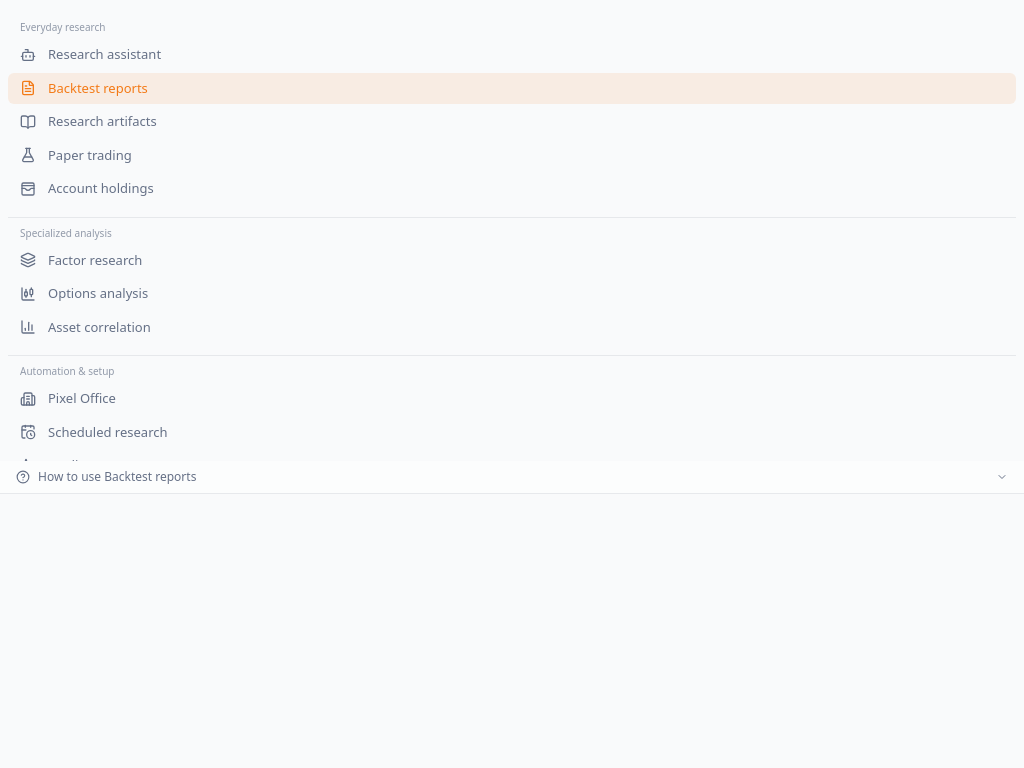
Test: resets page help on navigation and states the scheduler prerequisite
Click the heading "How to use Backtest reports". click: (117, 476)
box: [16,469,1008,485]
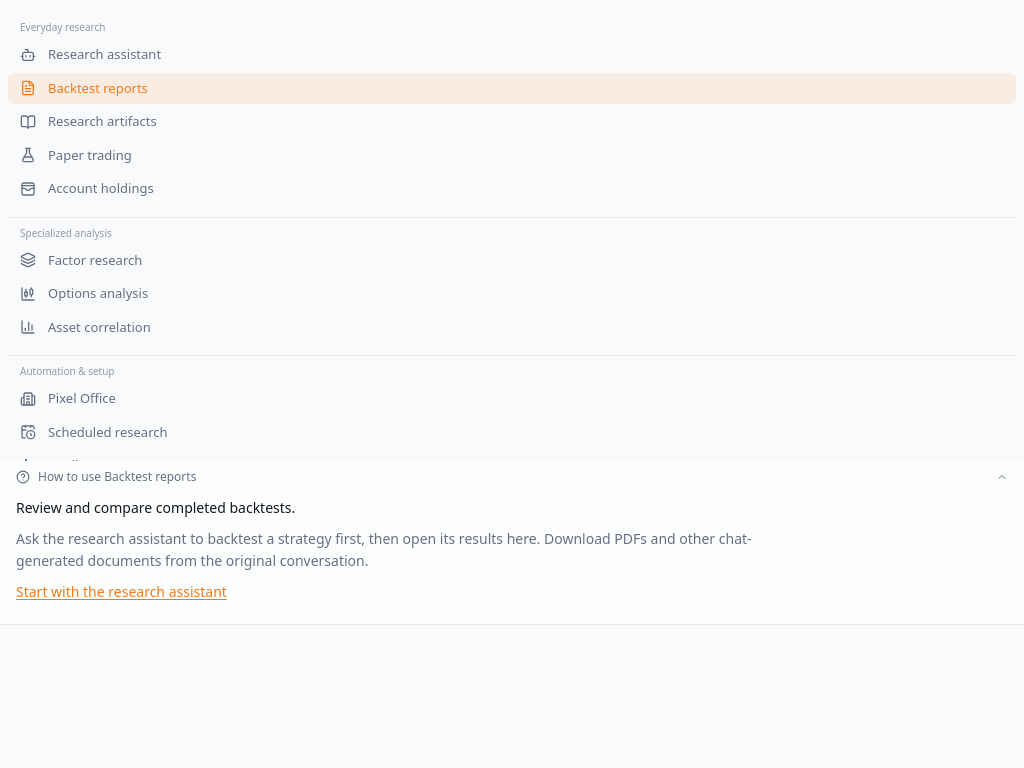
Click the link "Scheduled research". click: (94, 432)
box: [20,422,168,440]
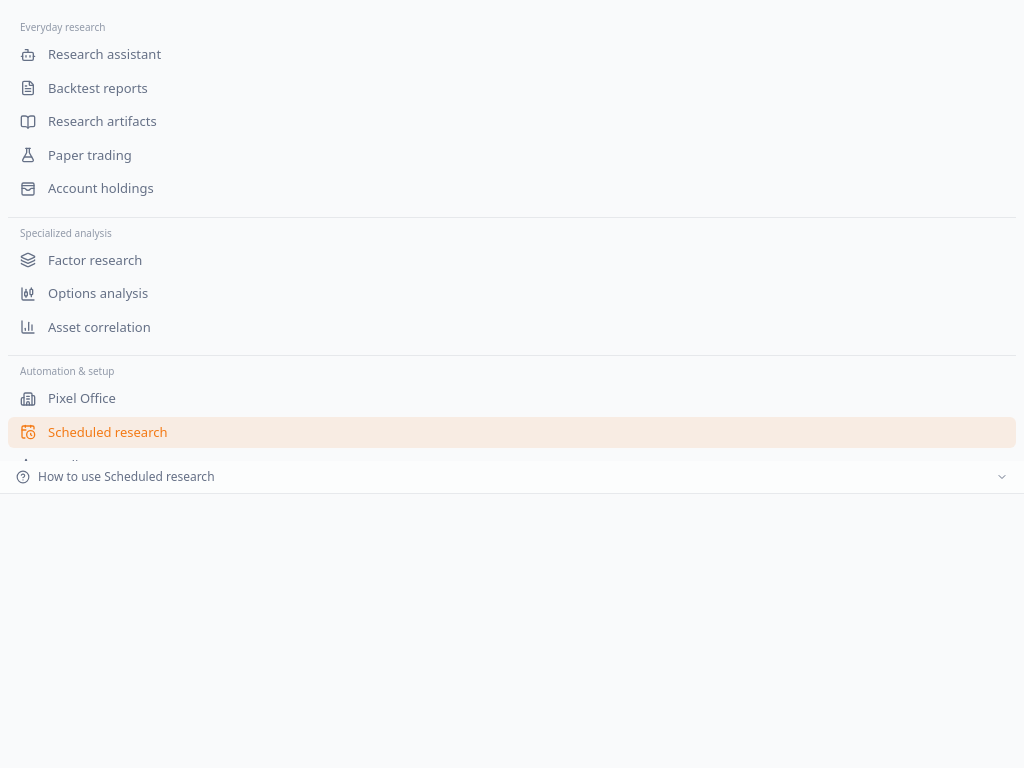
Now the text "How to use Scheduled research" does not have attribute open, box [0,461,1023,494]
Click the heading "How to use Scheduled research". click: (126, 476)
box: [16,469,1008,485]
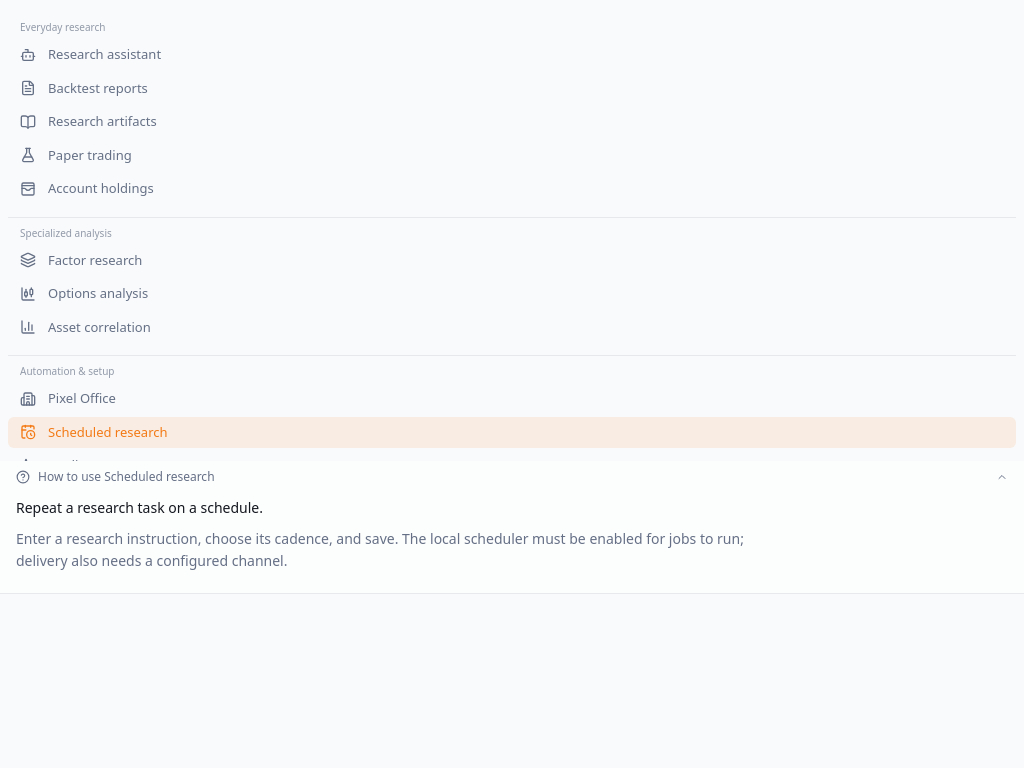
Now the text "local scheduler must be enabled" is shown, box [16,528,744,570]
